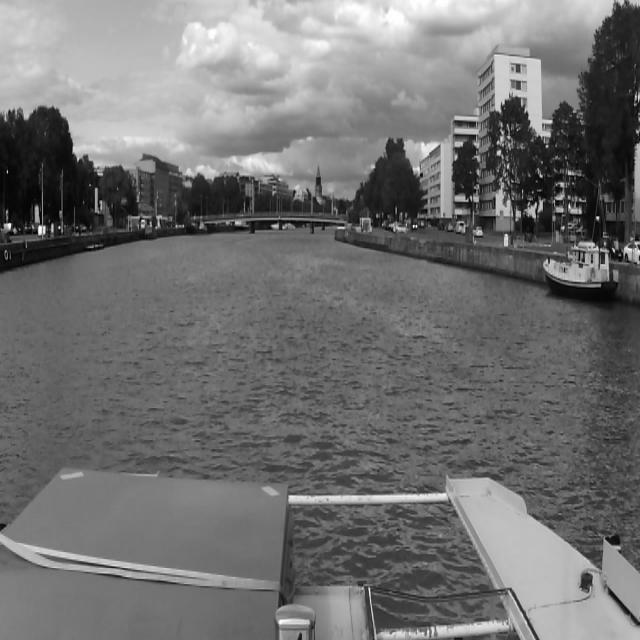ship: (542, 234, 624, 317), (184, 217, 198, 237), (143, 224, 157, 243), (270, 221, 286, 232), (199, 220, 209, 234)
